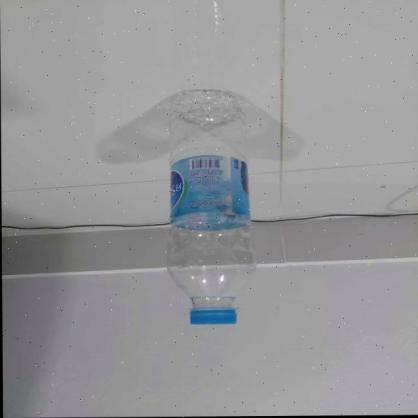bottle: (166, 87, 252, 330)
cap: (188, 305, 236, 327)
label: (170, 155, 249, 230)
